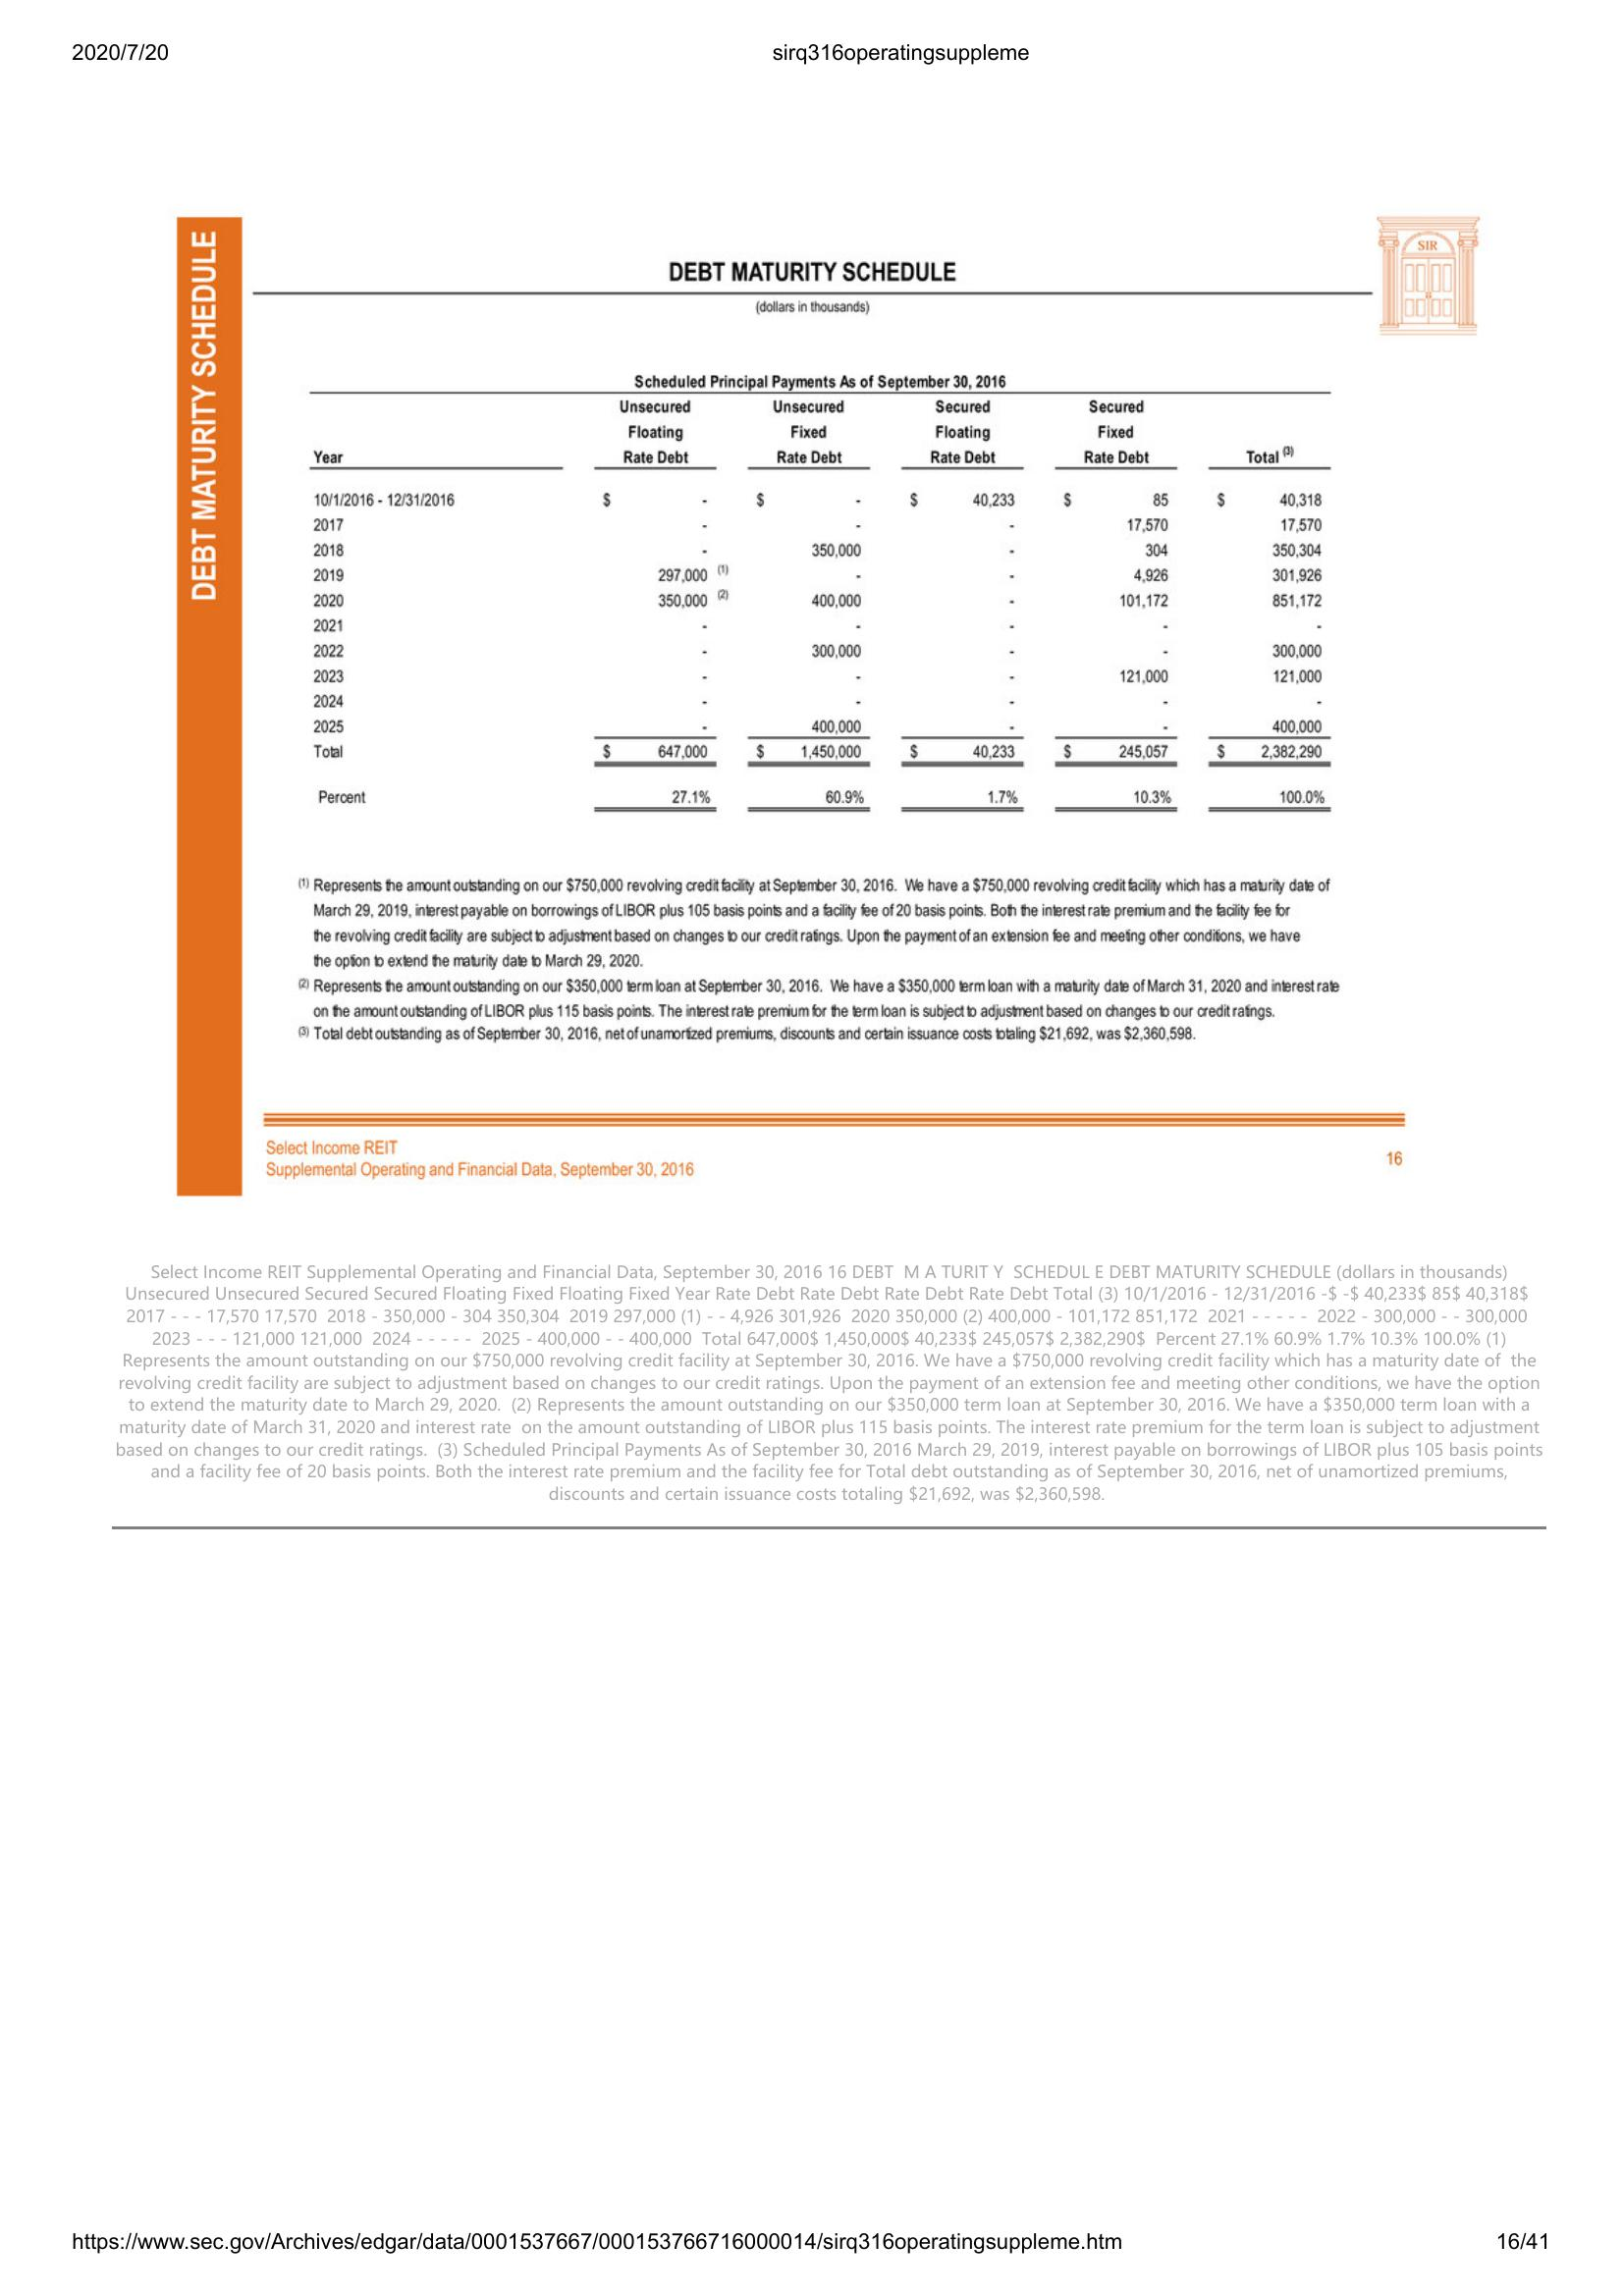table: (297, 363, 1345, 823)
